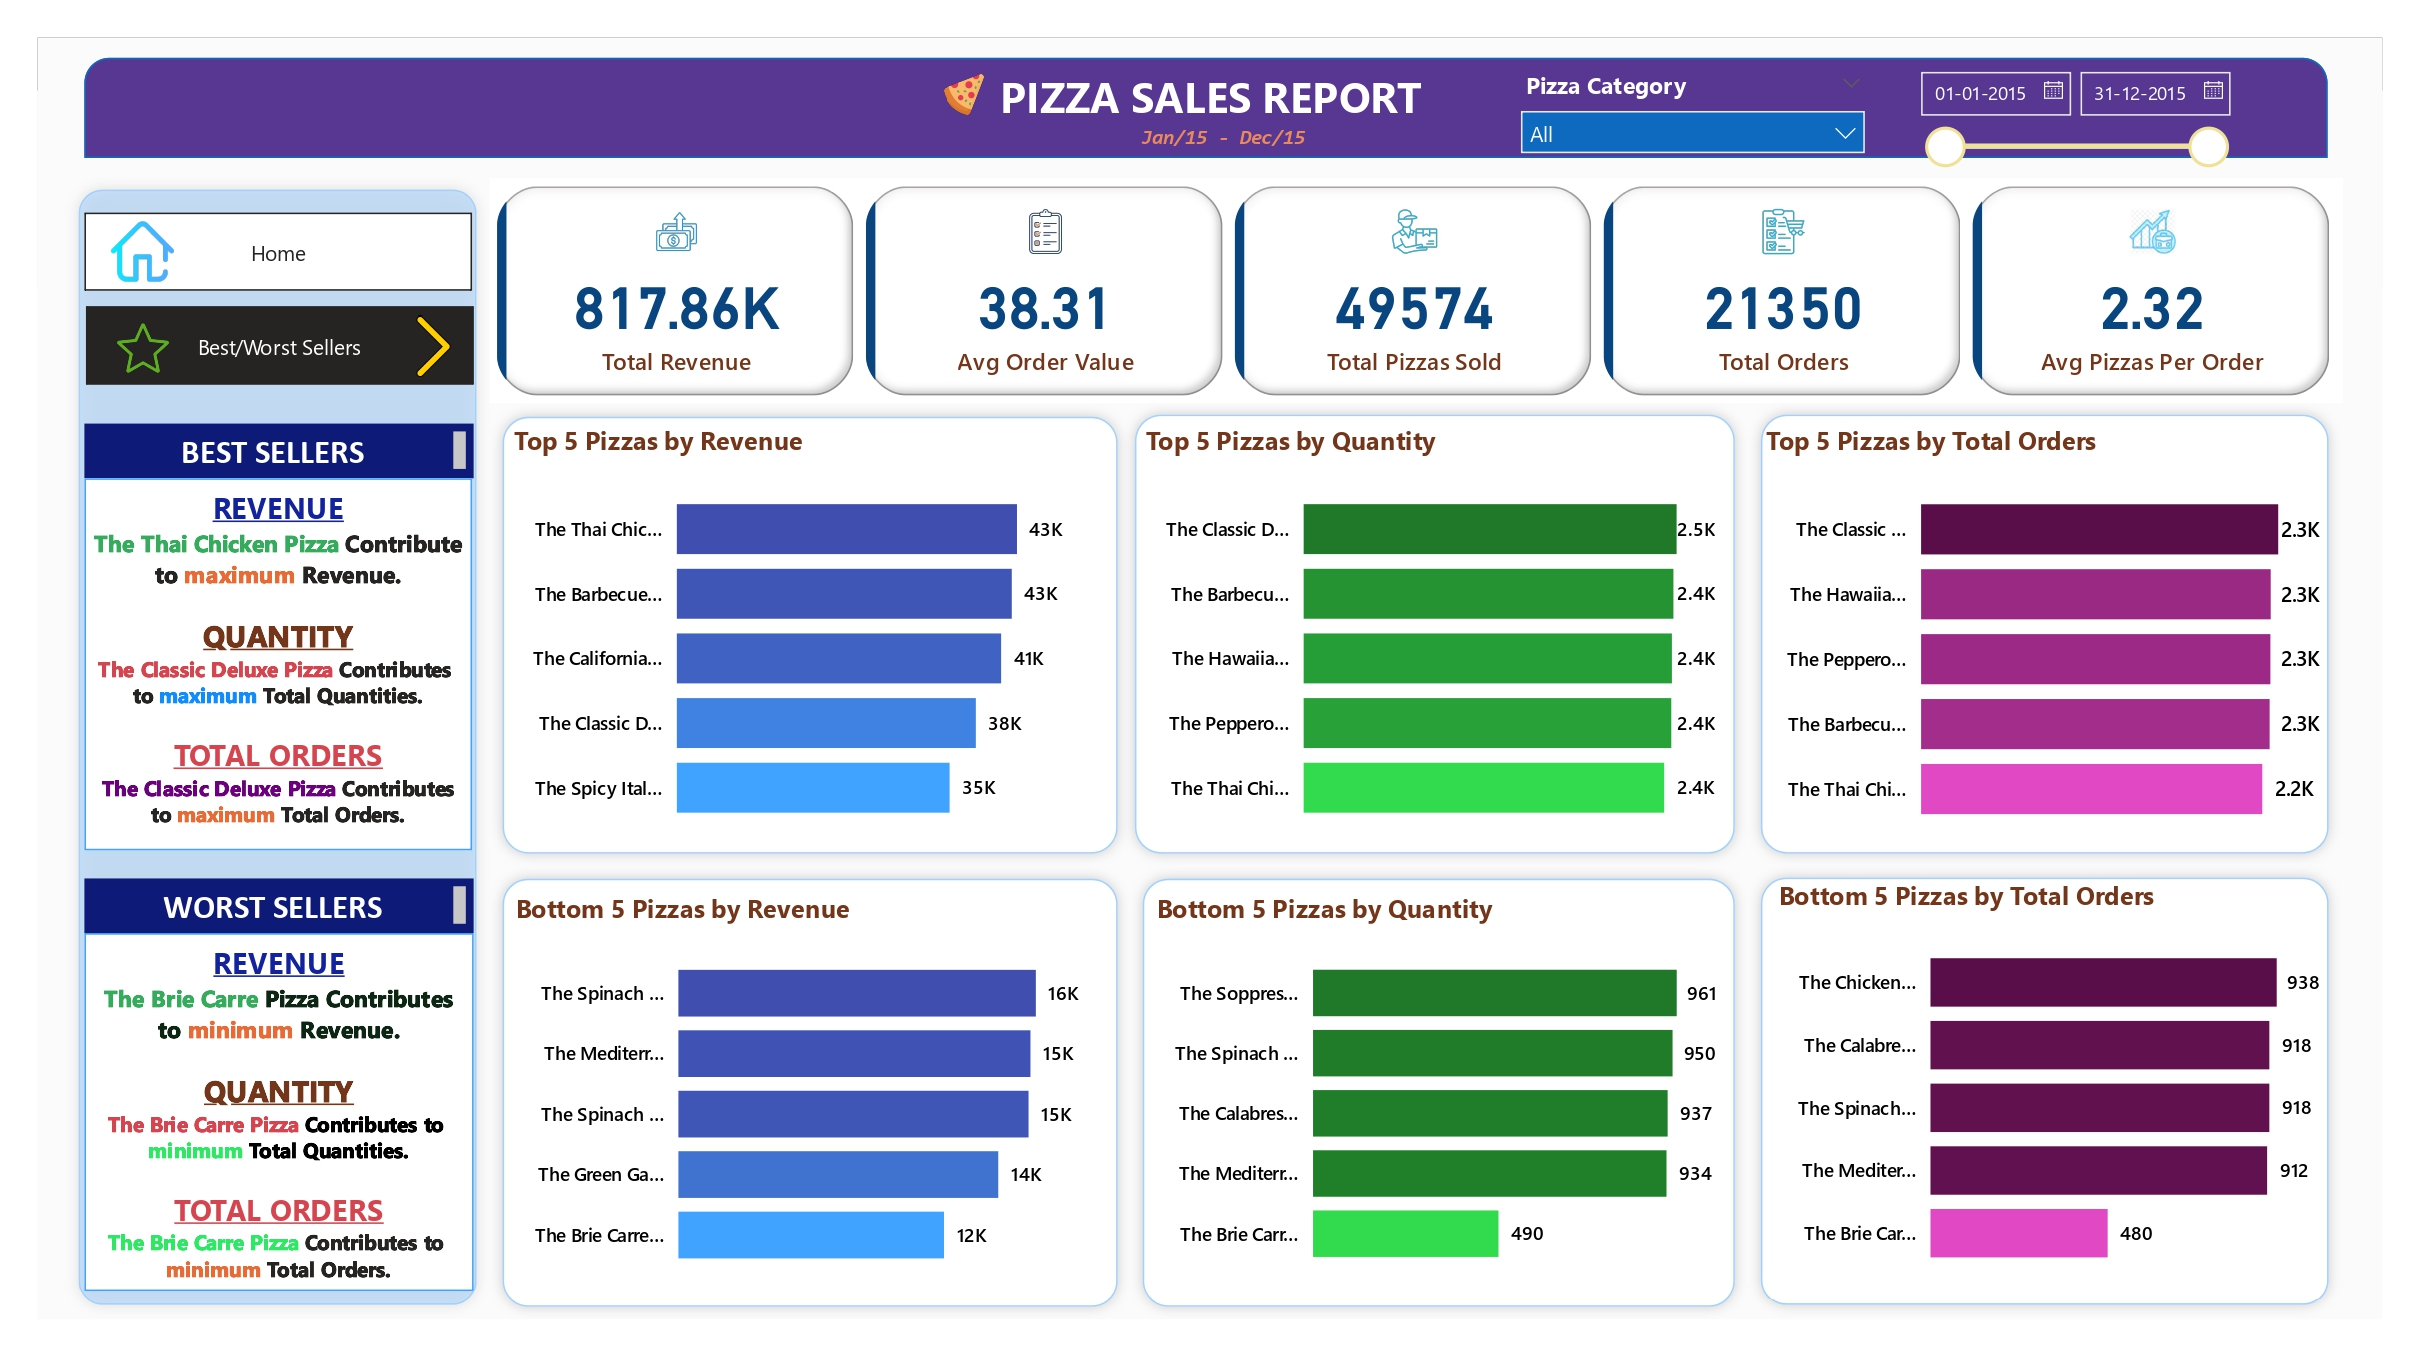

What the dashboard file says about the page in this screenshot:
{"tool":"powerbi","page":{"name":"Best/Worst Sellers","canvas":[1500,820],"ordinal":1},"visuals":[{"type":"shape","box":[17.7,88.6,271.2,730.4],"z":0},{"type":"cardVisual","fields":{"Data":["pizza_sales.Total Revenue","pizza_sales.Avg Order Value","pizza_sales.Total Pizzas Sold","pizza_sales.Total Orders","pizza_sales.Avg Pizzas Per Order"]},"box":[288.7,90.1,1185.9,143.7],"z":1000},{"type":"shape","box":[29.6,12.7,1435.2,64.8],"z":2000},{"type":"textbox","box":[608.5,12.7,284.5,47.9],"z":3000},{"type":"textbox","box":[693,49.3,131,28.2],"z":4000},{"type":"image","box":[564.8,18.3,54.9,36.6],"z":5000},{"type":"shape","box":[288.9,234.4,410.2,295.7],"z":6000},{"type":"textbox","box":[30,246.6,249.4,35.4],"z":7000},{"type":"textbox","box":[29.6,573,249.8,229.2],"z":8000},{"type":"textbox","box":[29.6,538.3,249.8,34.8],"z":9000},{"type":"textbox","box":[29.6,282,248.5,238.2],"z":10000},{"type":"slicer","fields":{"Values":["pizza_sales.pizza_category"]},"box":[938.9,15,239.8,60],"z":11000},{"type":"slicer","fields":{"Values":["pizza_sales.order_date"]},"box":[1192.3,12.3,218,77.7],"z":12000},{"type":"shape","box":[693.6,233,400.6,297.1],"z":13000},{"type":"shape","box":[1094.2,233,380.2,297.1],"z":14000},{"type":"shape","box":[288.9,530.1,410.2,290.2],"z":15000},{"type":"shape","box":[699,530.1,395.2,290.2],"z":16000},{"type":"shape","box":[1094.2,528.7,380.2,290.2],"z":17000},{"type":"barChart","title":"Top 5 Pizzas by Revenue","fields":{"Category":["pizza_sales.pizza_name"],"Y":["pizza_sales.Total Revenue"]},"box":[299.8,246.6,382.9,272.5],"z":18000},{"type":"barChart","title":"Bottom 5 Pizzas by Revenue","fields":{"Category":["pizza_sales.pizza_name"],"Y":["pizza_sales.Total Revenue"]},"box":[301.1,546.4,382.9,256.2],"z":19000},{"type":"barChart","title":"Top 5 Pizzas by Quantity","fields":{"Category":["pizza_sales.pizza_name"],"Y":["pizza_sales.Total Pizzas Sold"]},"box":[704.5,246.6,373.4,272.5],"z":20000},{"type":"barChart","title":"Bottom 5 Pizzas by Quantity","fields":{"Category":["pizza_sales.pizza_name"],"Y":["pizza_sales.Total Pizzas Sold"]},"box":[710.5,546.4,368.5,255.8],"z":20001},{"type":"barChart","title":"Top 5 Pizzas by Total Orders","fields":{"Category":["pizza_sales.pizza_name"],"Y":["pizza_sales.Total Orders"]},"box":[1101,247.2,364.4,273],"z":20002},{"type":"barChart","title":"Bottom 5 Pizzas by Total Orders","fields":{"Category":["pizza_sales.pizza_name"],"Y":["pizza_sales.Total Orders"]},"box":[1109.2,538.2,355.7,264.4],"z":20003},{"type":"pageNavigator","box":[31.3,171.7,248,50.4],"z":20004},{"type":"pageNavigator","box":[30,111.7,248,50.4],"z":20005},{"type":"image","box":[228.9,171.7,49.1,50.4],"z":20006},{"type":"image","box":[31.3,111.7,70.9,50.4],"z":20007},{"type":"image","box":[46.3,167.6,42.2,60],"z":20008}]}

Visuals, with their boxes in screenshot pixels (x1, y1, x2, y2):
shape: {"x1": 65, "y1": 176, "x2": 489, "y2": 1318}
cardVisual - pizza_sales.Total Revenue x pizza_sales.Avg Order Value: {"x1": 489, "y1": 178, "x2": 2343, "y2": 403}
shape: {"x1": 84, "y1": 57, "x2": 2327, "y2": 159}
textbox: {"x1": 989, "y1": 57, "x2": 1434, "y2": 132}
textbox: {"x1": 1121, "y1": 115, "x2": 1326, "y2": 159}
image: {"x1": 920, "y1": 66, "x2": 1006, "y2": 123}
shape: {"x1": 489, "y1": 404, "x2": 1130, "y2": 866}
textbox: {"x1": 84, "y1": 423, "x2": 474, "y2": 478}
textbox: {"x1": 84, "y1": 933, "x2": 474, "y2": 1292}
textbox: {"x1": 84, "y1": 879, "x2": 474, "y2": 933}
textbox: {"x1": 84, "y1": 478, "x2": 472, "y2": 851}
slicer - pizza_sales.pizza_category: {"x1": 1505, "y1": 61, "x2": 1880, "y2": 155}
slicer - pizza_sales.order_date: {"x1": 1901, "y1": 57, "x2": 2242, "y2": 178}
shape: {"x1": 1122, "y1": 402, "x2": 1748, "y2": 866}
shape: {"x1": 1748, "y1": 402, "x2": 2342, "y2": 866}
shape: {"x1": 489, "y1": 866, "x2": 1130, "y2": 1319}
shape: {"x1": 1130, "y1": 866, "x2": 1748, "y2": 1319}
shape: {"x1": 1748, "y1": 864, "x2": 2342, "y2": 1318}
"Top 5 Pizzas by Revenue" barChart: {"x1": 506, "y1": 423, "x2": 1105, "y2": 849}
"Bottom 5 Pizzas by Revenue" barChart: {"x1": 508, "y1": 892, "x2": 1107, "y2": 1292}
"Top 5 Pizzas by Quantity" barChart: {"x1": 1139, "y1": 423, "x2": 1723, "y2": 849}
"Bottom 5 Pizzas by Quantity" barChart: {"x1": 1148, "y1": 892, "x2": 1724, "y2": 1292}
"Top 5 Pizzas by Total Orders" barChart: {"x1": 1759, "y1": 424, "x2": 2328, "y2": 851}
"Bottom 5 Pizzas by Total Orders" barChart: {"x1": 1772, "y1": 879, "x2": 2328, "y2": 1292}
pageNavigator: {"x1": 86, "y1": 306, "x2": 474, "y2": 385}
pageNavigator: {"x1": 84, "y1": 212, "x2": 472, "y2": 291}
image: {"x1": 395, "y1": 306, "x2": 472, "y2": 385}
image: {"x1": 86, "y1": 212, "x2": 197, "y2": 291}
image: {"x1": 110, "y1": 300, "x2": 176, "y2": 393}
